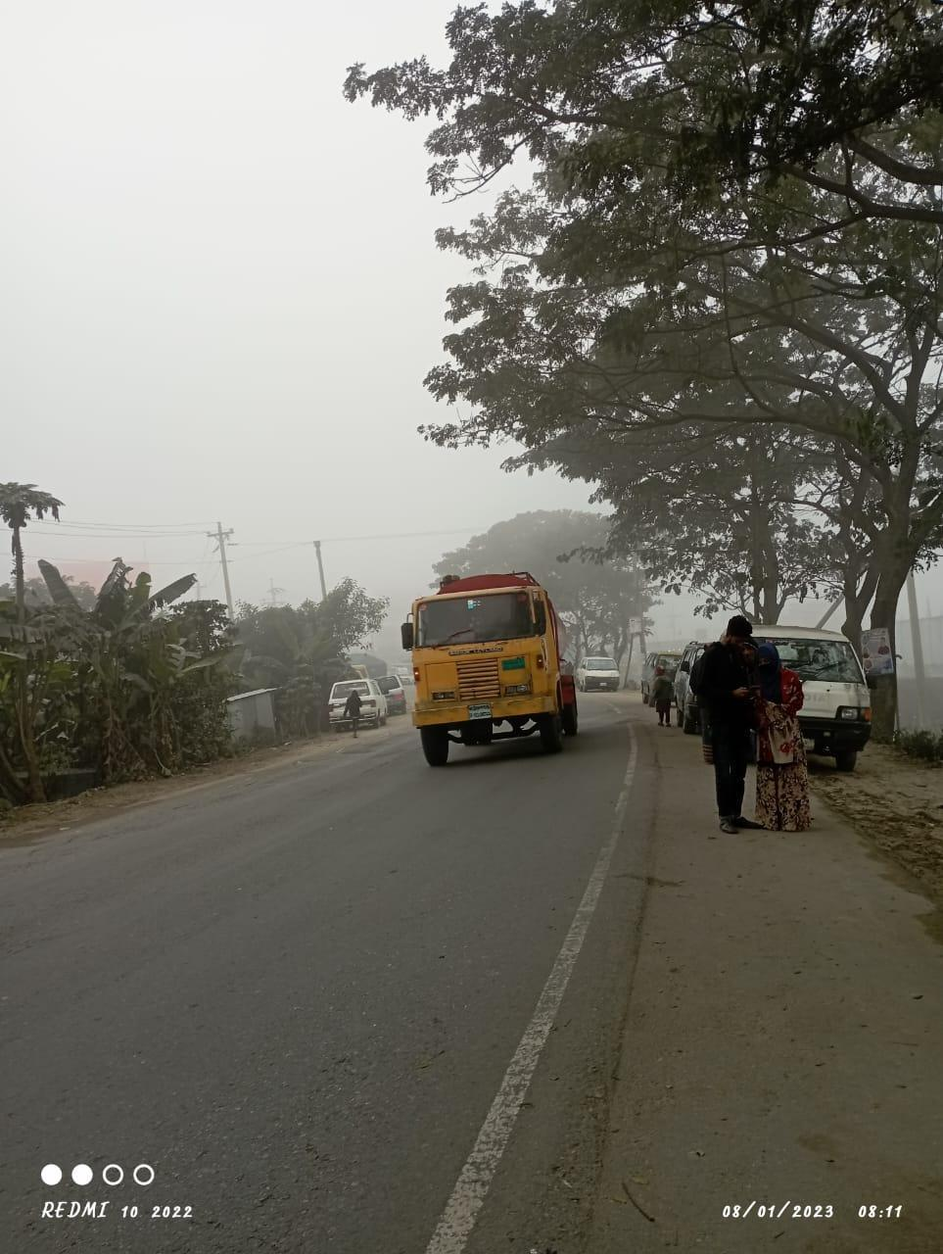Car: (736, 616, 885, 784), (323, 671, 388, 737), (574, 650, 635, 702)
Truck: (397, 568, 586, 767)
